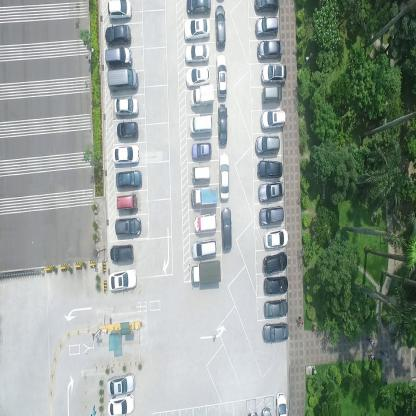car: (107, 265, 137, 292), (190, 259, 221, 285), (107, 68, 138, 93), (106, 371, 135, 397), (183, 15, 210, 39), (106, 391, 134, 414), (110, 142, 140, 163), (262, 251, 288, 275), (260, 107, 286, 131), (189, 183, 217, 205), (257, 182, 285, 204), (218, 150, 230, 200), (105, 23, 130, 47), (257, 38, 283, 61), (262, 322, 289, 344), (190, 238, 216, 260), (114, 215, 141, 236), (214, 2, 226, 48), (190, 82, 214, 105), (263, 298, 288, 320), (258, 205, 283, 227), (254, 15, 279, 37), (215, 52, 227, 97), (220, 205, 232, 250), (115, 168, 142, 188), (105, 48, 132, 68), (188, 112, 212, 134), (185, 64, 210, 85), (261, 63, 286, 84), (263, 228, 288, 249), (254, 135, 280, 155), (106, 0, 132, 20), (114, 96, 140, 116), (184, 42, 209, 62), (263, 276, 288, 296), (256, 161, 282, 180), (108, 242, 134, 261), (193, 212, 216, 233), (116, 121, 139, 140), (217, 102, 227, 144), (116, 191, 138, 210), (261, 86, 282, 105), (191, 140, 212, 158), (253, 0, 279, 14), (185, 0, 211, 14), (191, 163, 211, 180), (275, 390, 288, 415)
